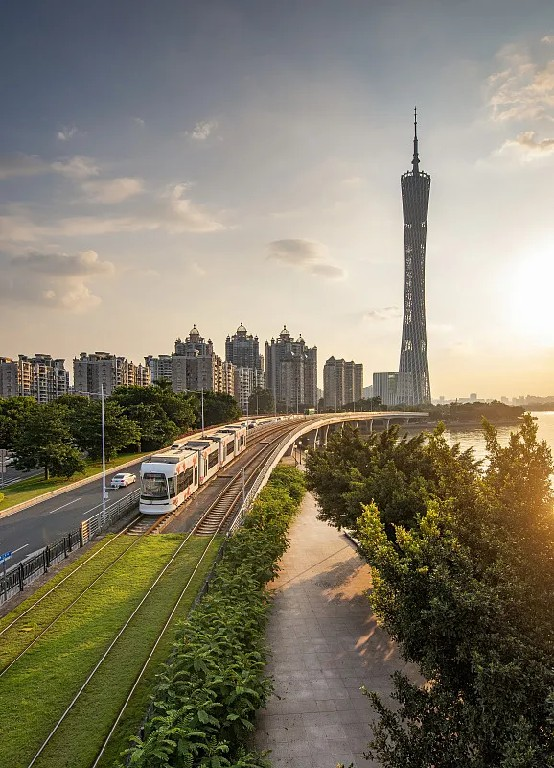Canton: (395, 106, 432, 405)
